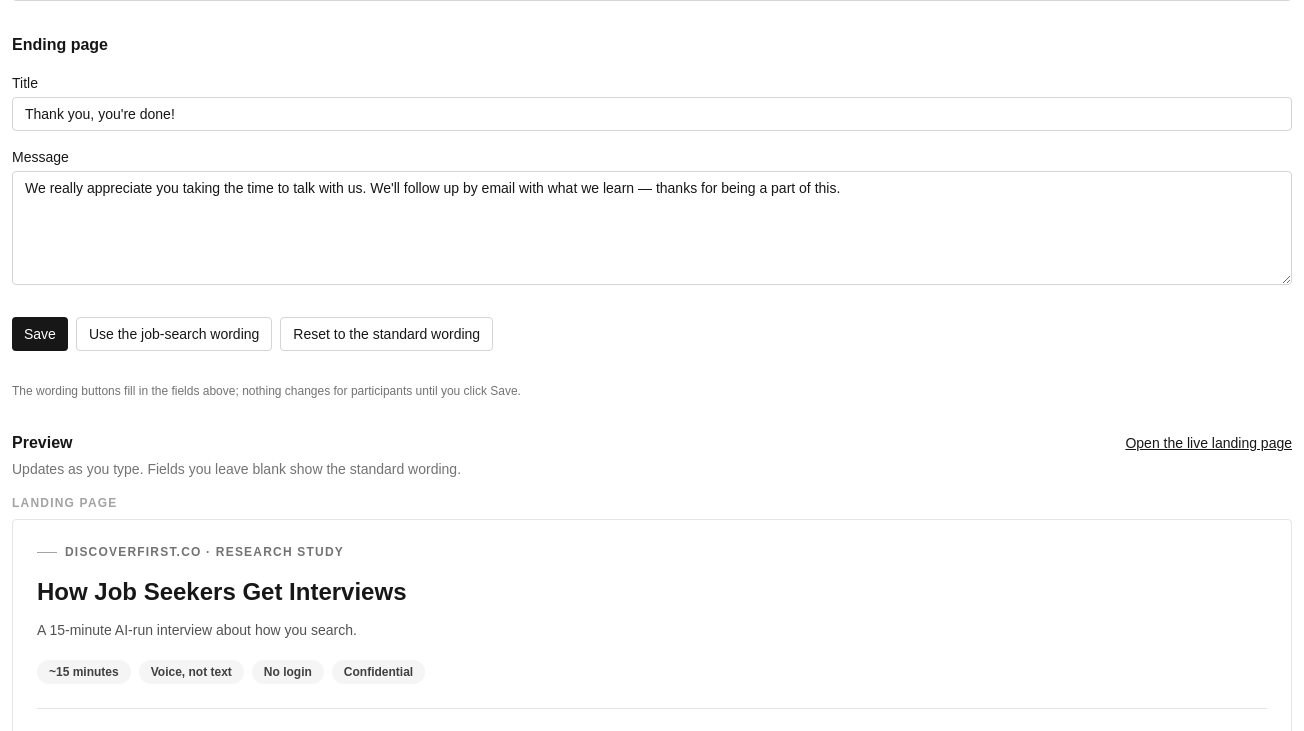
ParticipantPagesForm › saves nothing but null when the text is left at the standard wording
(page scrolled)
Step 1. Click the button "Save" → (40, 334), box [12,317,68,351]
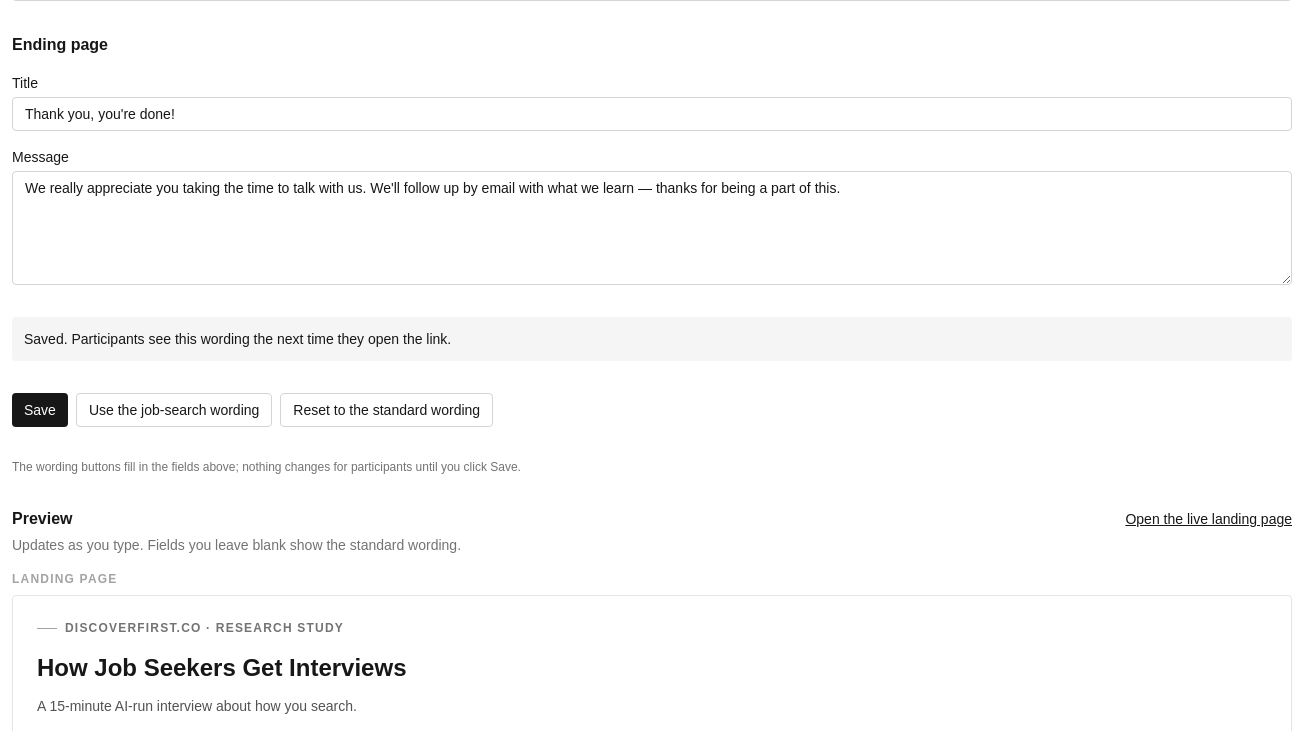
Now the text "Saved" is shown, box [24,331,451,347]
